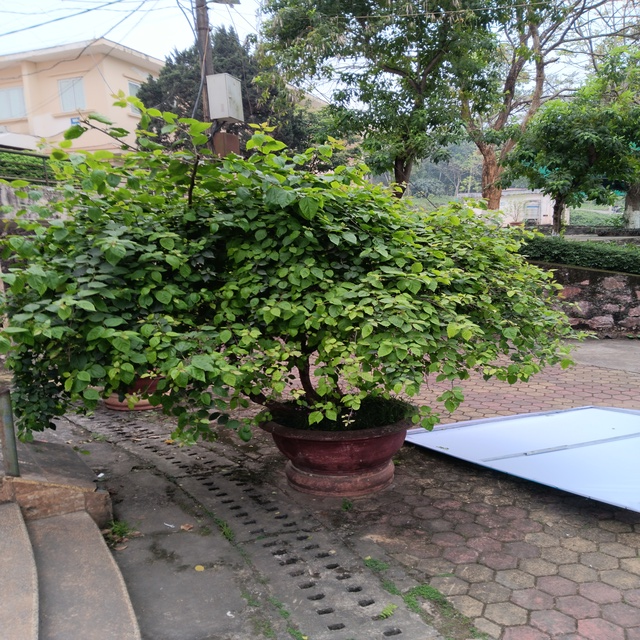caycanh: (176, 137, 523, 512), (50, 186, 209, 423)
